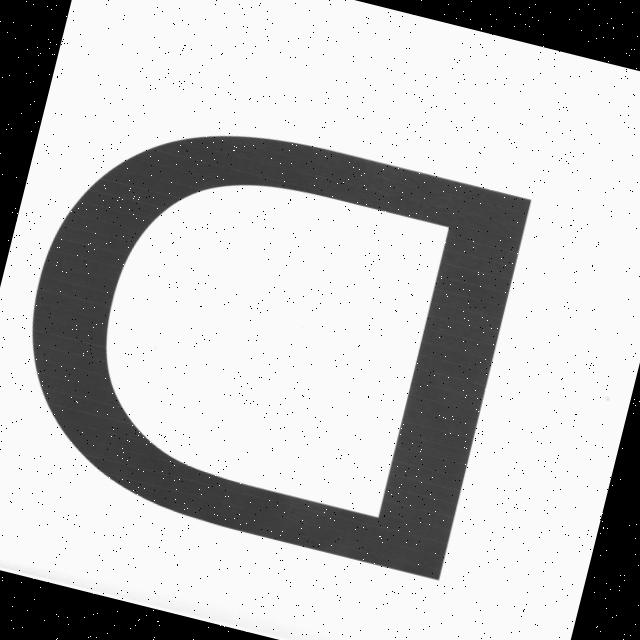d: (0, 67, 570, 609)
